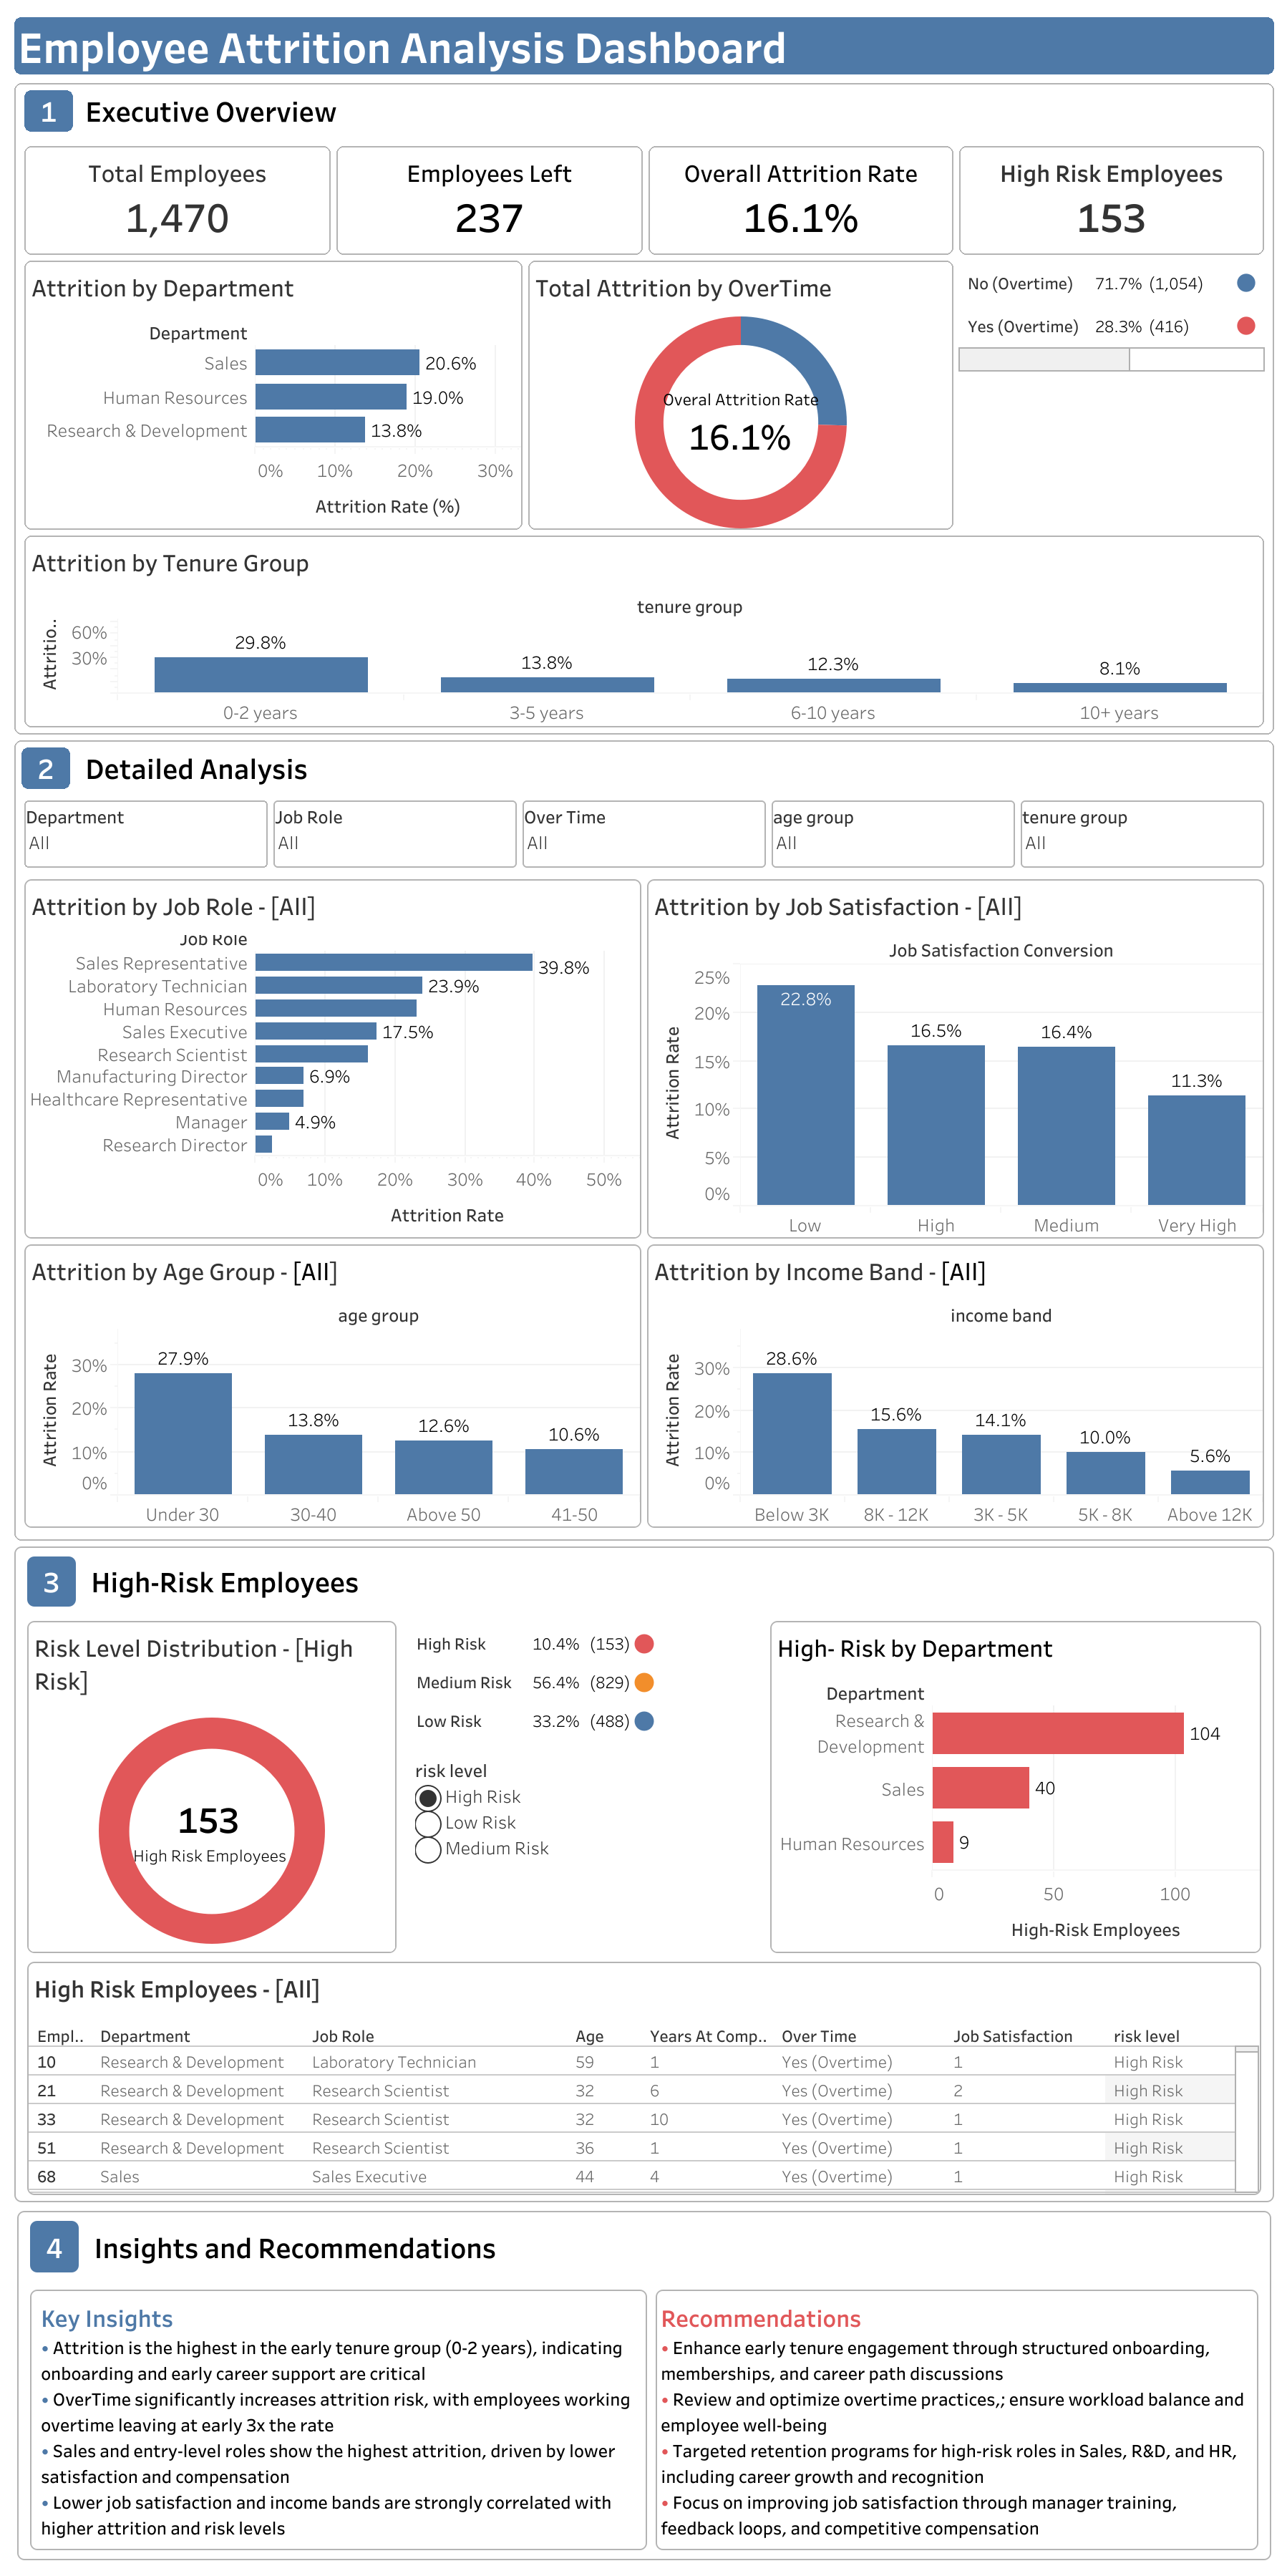

What the dashboard file says about the page in this screenshot:
{"tool":"tableau","page":{"name":"Dashboard Final","canvas":[900,1800],"ordinal":0},"visuals":[{"type":"title","box":[8,8,884,48]},{"type":"text","box":[15,61,38,33]},{"type":"text","box":[53,61,832,33]},{"type":"worksheet","title":"tot_emp","mark":"Polygon","box":[15,100,218,80]},{"type":"worksheet","title":"emp_left","mark":"Polygon","box":[233,100,218,80]},{"type":"worksheet","title":"att_rate","mark":"Polygon","box":[451,100,217,80]},{"type":"worksheet","title":"Cnt_high_risk","mark":"Polygon","box":[668,100,217,80]},{"type":"worksheet","title":"att_dept","mark":"Automatic","rows":["Department"],"cols":["Calculation_6144539884032001"],"box":[15,182,352,188]},{"type":"worksheet","title":"att_ot","mark":"Pie","cols":["Calculation_6144540008017929","Calculation_6144540008103948"],"box":[367,182,301,188]},{"type":"worksheet","title":"Cust_legend_ot","mark":"Circle","rows":["OverTime"],"box":[668,182,217,188]},{"type":"worksheet","title":"att_ten_group","mark":"Automatic","rows":["Calculation_6144539884032001"],"cols":["Calculation_6144539887849475"],"box":[15,373.9,870,136.1]},{"type":"text","box":[11,518.1,42,37]},{"type":"text","box":[53,518.1,836,37]},{"type":"filter","title":"att_job_role","param":"[federated.1y3ocxe0fk04ig19uaq630ynma69].[none:Department:nk]","box":[15,557,174,51]},{"type":"filter","title":"att_job_role","param":"[federated.1y3ocxe0fk04ig19uaq630ynma69].[none:JobRole:nk]","box":[189,557,174,51]},{"type":"filter","title":"att_job_role","param":"[federated.1y3ocxe0fk04ig19uaq630ynma69].[none:OverTime:nk]","box":[363,557,174,51]},{"type":"filter","title":"att_job_role","param":"[federated.1y3ocxe0fk04ig19uaq630ynma69].[none:Calculation_6144539888050180:nk]","box":[537,557,174,51]},{"type":"filter","title":"att_job_role","param":"[federated.1y3ocxe0fk04ig19uaq630ynma69].[none:Calculation_6144539887849475:nk]","box":[711,557,174,51]},{"type":"worksheet","title":"att_job_role","mark":"Automatic","rows":["JobRole"],"cols":["Calculation_6144539884032001"],"box":[15,612,435,255]},{"type":"worksheet","title":"att_job_sat","mark":"Automatic","rows":["Calculation_6144539884032001"],"cols":["Calculation_6144540102565901"],"box":[450,612,435,255]},{"type":"worksheet","title":"att_age_group","mark":"Automatic","rows":["Calculation_6144539884032001"],"cols":["Calculation_6144539888050180"],"box":[15,867,435,202]},{"type":"worksheet","title":"att_income_band","mark":"Automatic","rows":["Calculation_6144539884032001"],"cols":["Calculation_6144539888197637"],"box":[450,867,435,202]},{"type":"text","box":[15,1083.1,42,43]},{"type":"text","box":[57,1083.1,828,43]},{"type":"worksheet","title":"att_high_risk","mark":"Pie","cols":["Calculation_6144540008017929","Calculation_6144540008103948"],"box":[15,1130.1,266,235.9]},{"type":"worksheet","title":"Cust_legend_risk","mark":"Circle","rows":["Calculation_6144539888345094"],"box":[281,1130.1,253,235.9]},{"type":"worksheet","title":"high_risk_by_dept","mark":"Automatic","rows":["Department"],"cols":["Calculation_6144539888345094"],"box":[534,1130.1,351,235.9]},{"type":"filter","title":"att_high_risk","param":"[federated.1y3ocxe0fk04ig19uaq630ynma69].[none:Calculation_6144539888345094:nk]","box":[290,1226,168,108]},{"type":"worksheet","title":"Tab_high_risk","mark":"Automatic","rows":["EmployeeNumber","Department","JobRole","Age","YearsAtCompany","OverTime","JobSatisfaction","Calculation_6144539888345094"],"box":[15,1370,870,165]},{"type":"text","box":[17,1547,42,44]},{"type":"text","box":[59,1547,824,44]},{"type":"text","box":[17,1595,439,190]},{"type":"text","box":[456,1595,427,190]}]}

Visuals, with their boxes in screenshot pixels (x1, y1, x2, y2), scaled from the page's 900x1800 canvas onto the 1287x2576 screenshot:
title: [11,11,1276,80]
text: [21,87,76,135]
text: [76,87,1266,135]
"tot_emp" worksheet (Polygon marks): [21,143,333,258]
"emp_left" worksheet (Polygon marks): [333,143,645,258]
"att_rate" worksheet (Polygon marks): [645,143,956,258]
"Cnt_high_risk" worksheet (Polygon marks): [956,143,1266,258]
"att_dept" worksheet: [21,261,525,530]
"att_ot" worksheet (Pie marks): [525,261,956,530]
"Cust_legend_ot" worksheet (Circle marks): [956,261,1266,530]
"att_ten_group" worksheet: [21,535,1266,730]
text: [16,742,76,795]
text: [76,742,1271,795]
"att_job_role" filter: [21,797,271,870]
"att_job_role" filter: [271,797,519,870]
"att_job_role" filter: [519,797,768,870]
"att_job_role" filter: [768,797,1016,870]
"att_job_role" filter: [1016,797,1266,870]
"att_job_role" worksheet: [21,876,643,1241]
"att_job_sat" worksheet: [643,876,1266,1241]
"att_age_group" worksheet: [21,1241,643,1530]
"att_income_band" worksheet: [643,1241,1266,1530]
text: [21,1550,82,1612]
text: [82,1550,1266,1612]
"att_high_risk" worksheet (Pie marks): [21,1617,402,1955]
"Cust_legend_risk" worksheet (Circle marks): [402,1617,764,1955]
"high_risk_by_dept" worksheet: [764,1617,1266,1955]
"att_high_risk" filter: [414,1755,655,1909]
"Tab_high_risk" worksheet: [21,1960,1266,2197]
text: [24,2214,84,2277]
text: [84,2214,1263,2277]
text: [24,2282,652,2555]
text: [652,2282,1263,2555]
